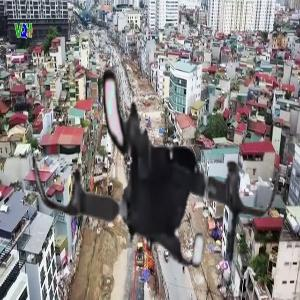drone: (28, 30, 292, 294)
